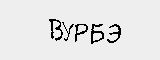Б: (88, 21, 105, 44)
В: (48, 17, 64, 44)
Р: (73, 21, 88, 44)
У: (60, 18, 73, 42)
Э: (107, 21, 122, 44)
